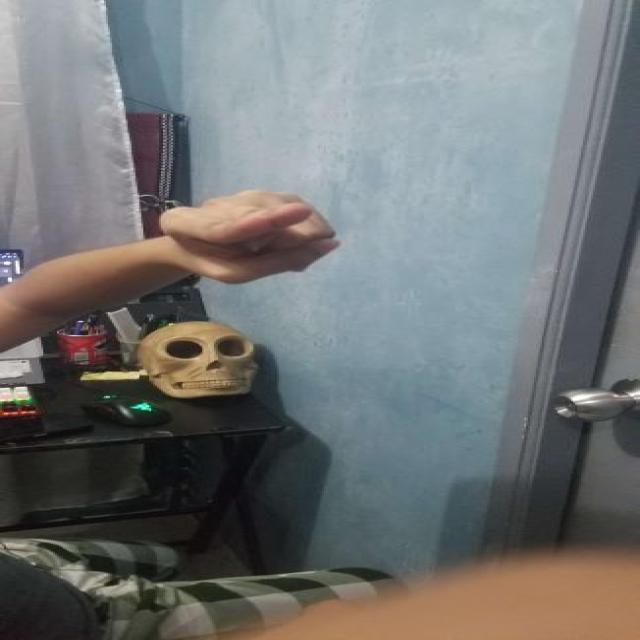N: (156, 186, 347, 283)
